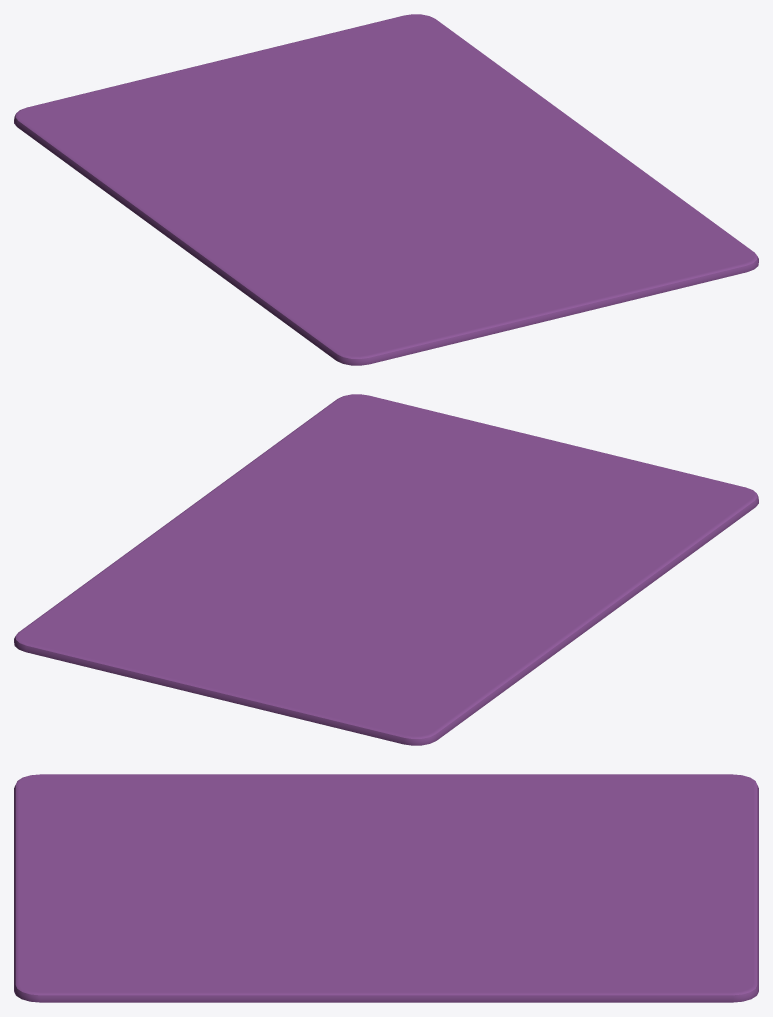
Rendered from alfombra.fbx.
The picture shows the model from 3 angles, top to bottom: view 1: azimuth 30°, elevation 25°; view 2: azimuth 150°, elevation 25°; view 3: azimuth 270°, elevation 25°; orthographic projection. The views are drawn at different scales.
Parts seen in each view (by area): view 1: pCube1; view 2: pCube1; view 3: pCube1.
Part boxes in pixels (x1=…): pCube1: x1=14, y1=14, x2=758, y2=365; pCube1: x1=14, y1=394, x2=758, y2=745; pCube1: x1=14, y1=774, x2=758, y2=1002.
Bounding box in the file's own units: 120 × 2 × 170.
